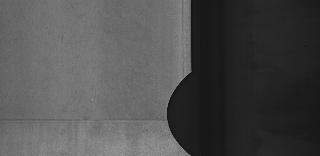welding line: (2, 114, 176, 128)
